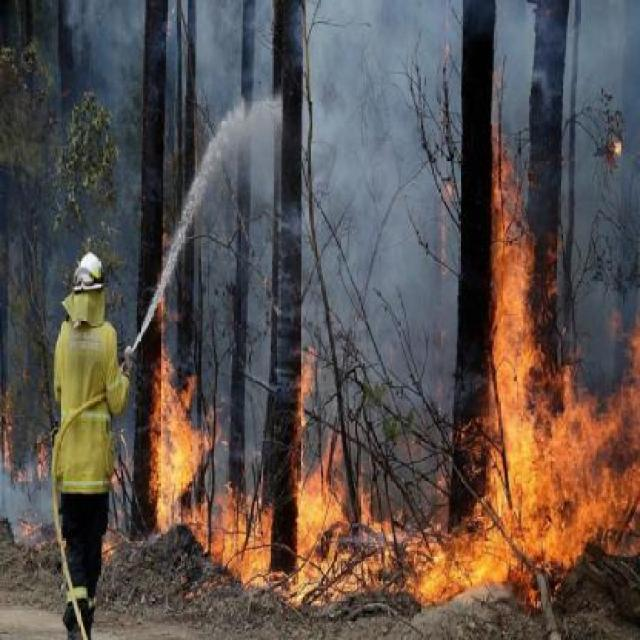Fire: (537, 352, 640, 558), (490, 152, 530, 603), (294, 346, 344, 600), (154, 350, 217, 547), (420, 523, 522, 594), (213, 489, 270, 583), (354, 482, 400, 590), (0, 388, 17, 486), (33, 438, 52, 480), (22, 515, 42, 537), (630, 318, 638, 349)
